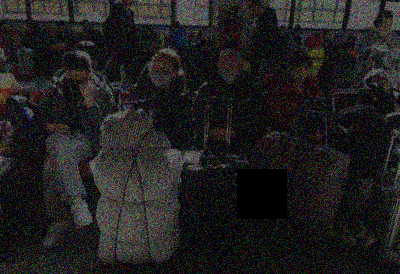with_mask: (148, 60, 175, 88), (218, 61, 241, 85), (65, 71, 86, 92), (172, 24, 179, 32)
without_mask: (290, 63, 312, 83), (370, 70, 391, 89), (380, 18, 393, 30), (251, 6, 258, 17), (58, 24, 65, 33), (2, 22, 10, 29), (25, 22, 31, 31), (83, 24, 89, 31), (227, 11, 232, 19), (295, 31, 301, 37), (280, 29, 286, 35), (145, 30, 151, 36), (325, 31, 330, 38)
